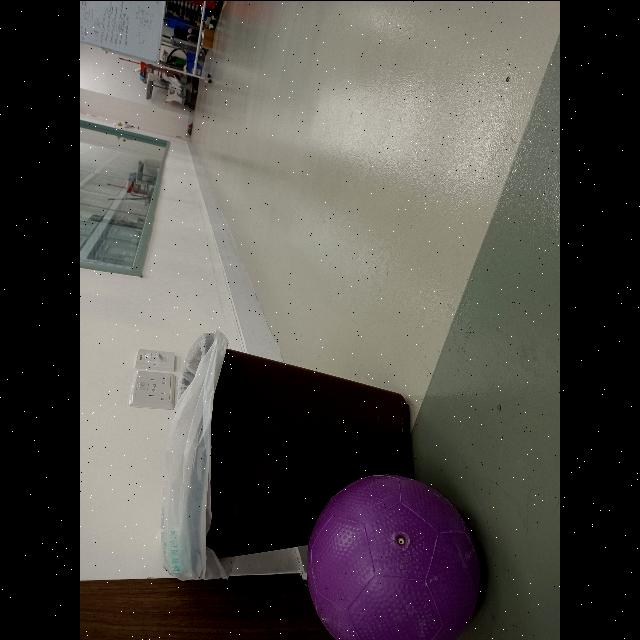P: (299, 462, 489, 640)
